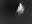person: (17, 3, 25, 17)
